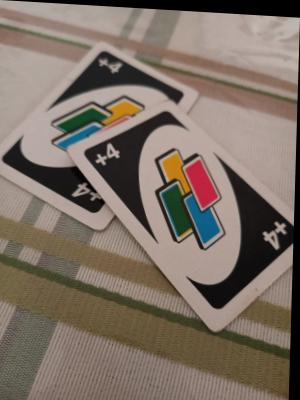wild-4: (29, 63, 153, 164), (64, 165, 117, 218), (97, 53, 126, 77)
